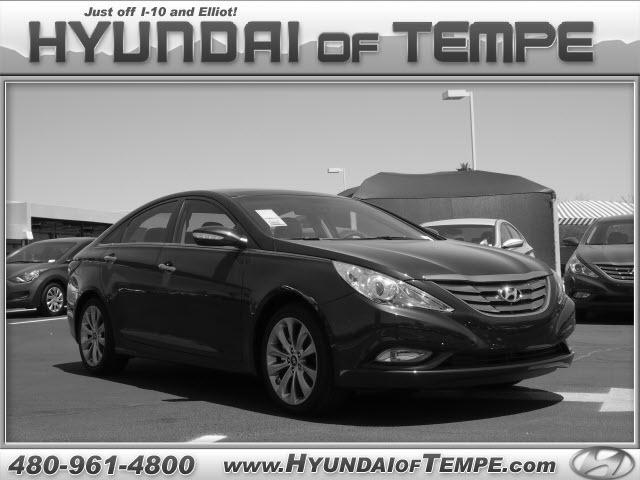car: (63, 183, 582, 417)
